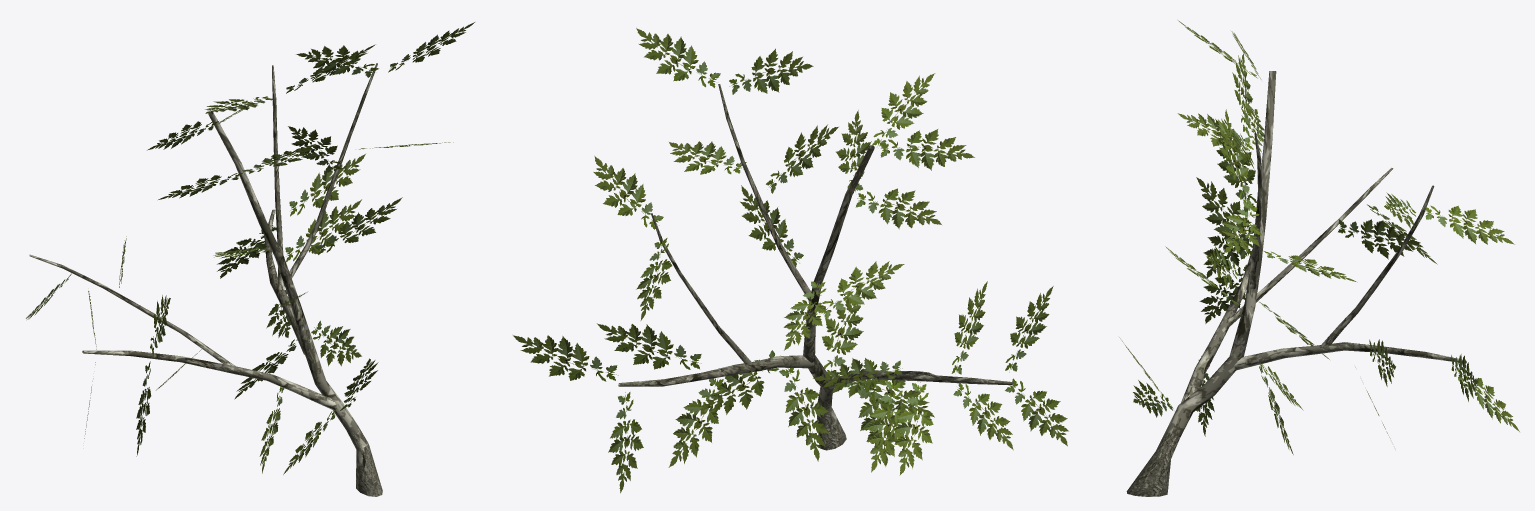
Rendered from Branch04.fbx.
3 views of the same model, side by side, from view 1: azimuth 30°, elevation 25°; view 2: azimuth 150°, elevation 25°; view 3: azimuth 270°, elevation 25° (orthographic). The views are drawn at different scales.
Visible parts, largest first — view 1: Branch04, Object004; view 2: Branch04, Object004; view 3: Branch04, Object004.
Boxes of the visible parts, bbox=[...] form: Branch04: bbox=[26, 22, 474, 474]; Object004: bbox=[347, 425, 382, 496]; Branch04: bbox=[513, 28, 1068, 493]; Object004: bbox=[817, 400, 846, 450]; Branch04: bbox=[1119, 20, 1519, 454]; Object004: bbox=[1126, 432, 1180, 496].
Size of the model in its own units: 125 by 120 by 98.47.
